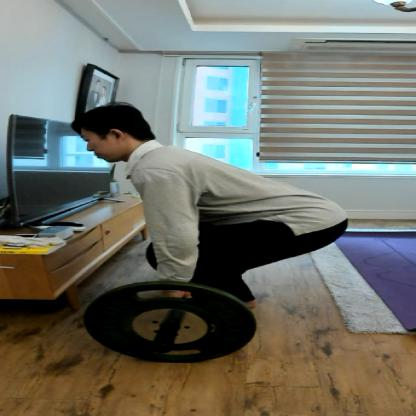Barbell: (75, 275, 268, 372)
